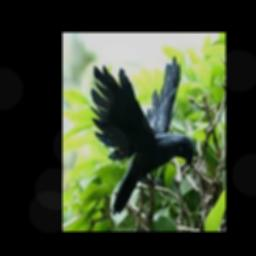Crow: (90, 54, 194, 216)
